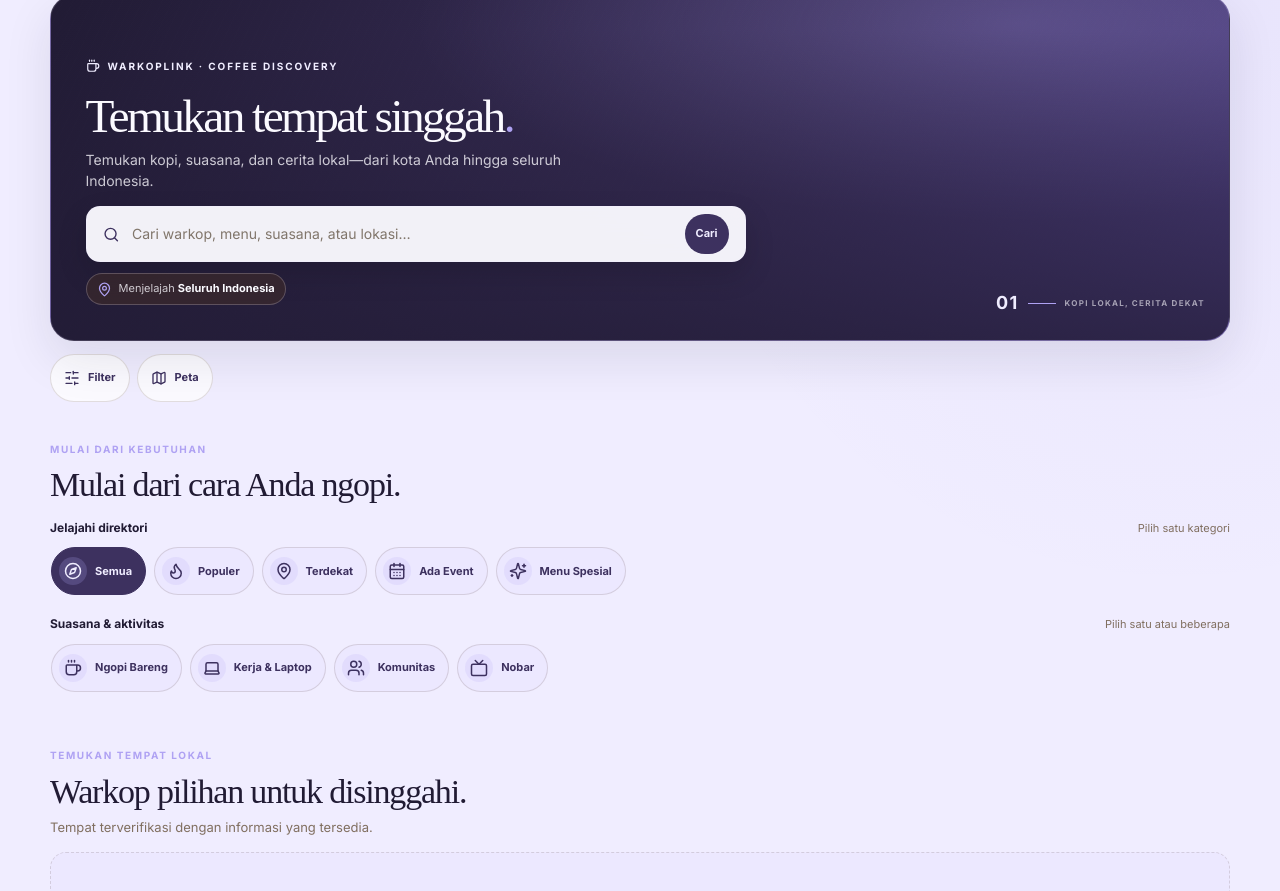
Test: WarungDiscoveryPage › always shows the complete activity classification and facility section when the loaded directory has no metadata
Click the button "Filter": click(90, 378) [50,354,130,402]
(page scrolled)
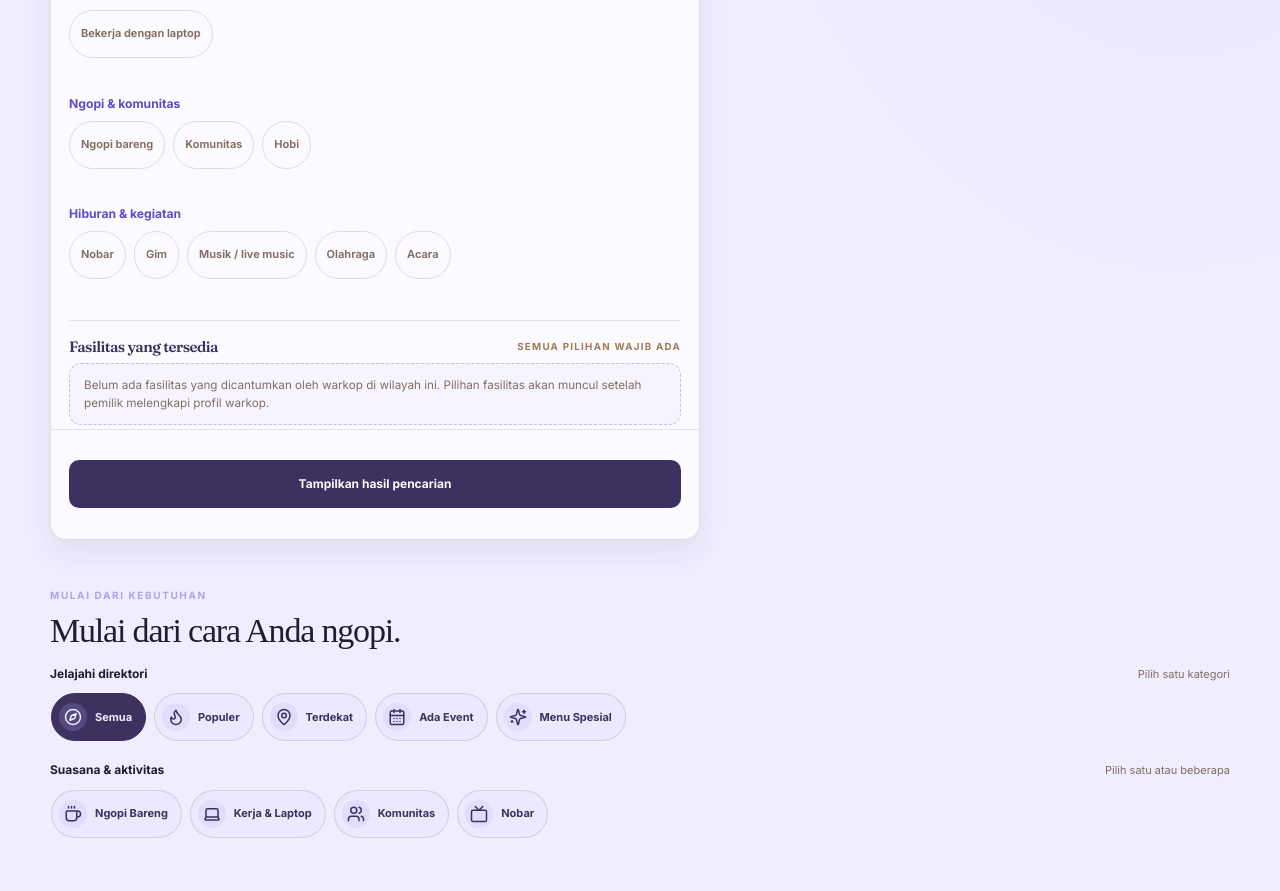
Check: the text "Ngopi & komunitas" is shown, box [69,96,180,111]
Check: the text "Hiburan & kegiatan" is shown, box [69,206,181,221]
Check: the button "Nobar" below "Hiburan & kegiatan" is shown, box [69,231,126,279]
